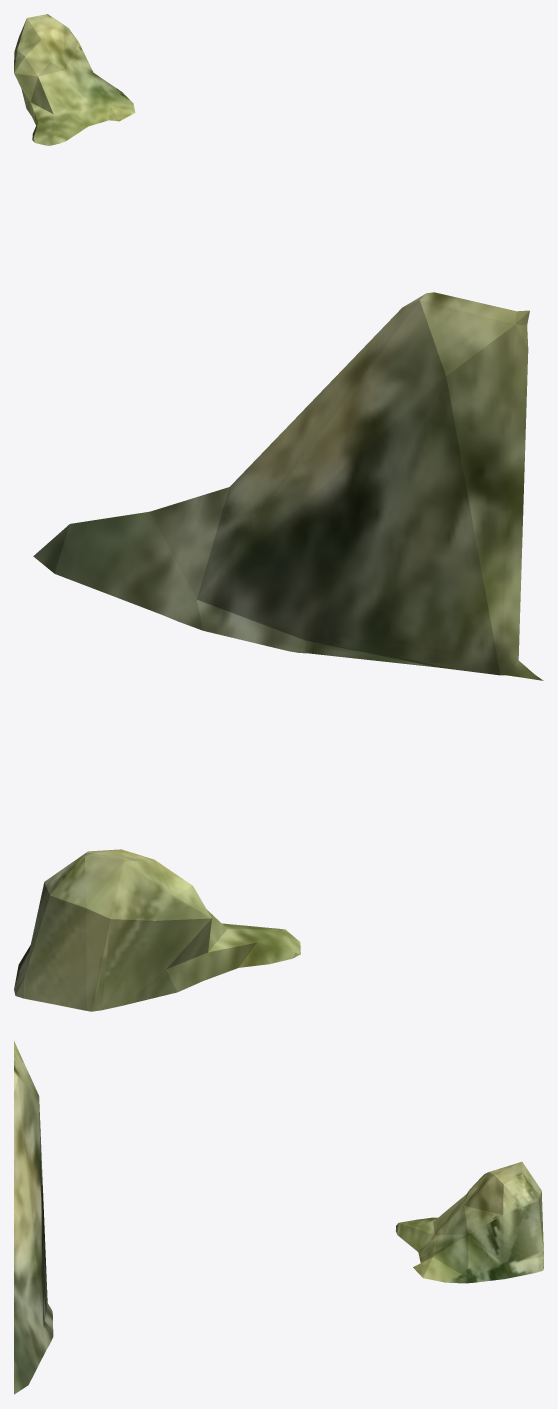
The picture shows the model from 3 angles, top to bottom: view 1: azimuth 30°, elevation 25°; view 2: azimuth 150°, elevation 25°; view 3: azimuth 270°, elevation 25°; orthographic projection. The views are drawn at different scales.
Bounding box in the file's own units: 1.79 × 1.03 × 2.32.
1 material, 1 textured.
